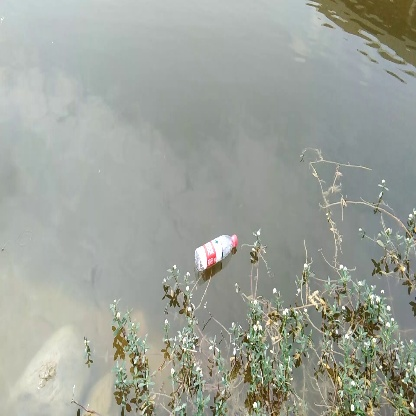bottle: (193, 231, 242, 276)
